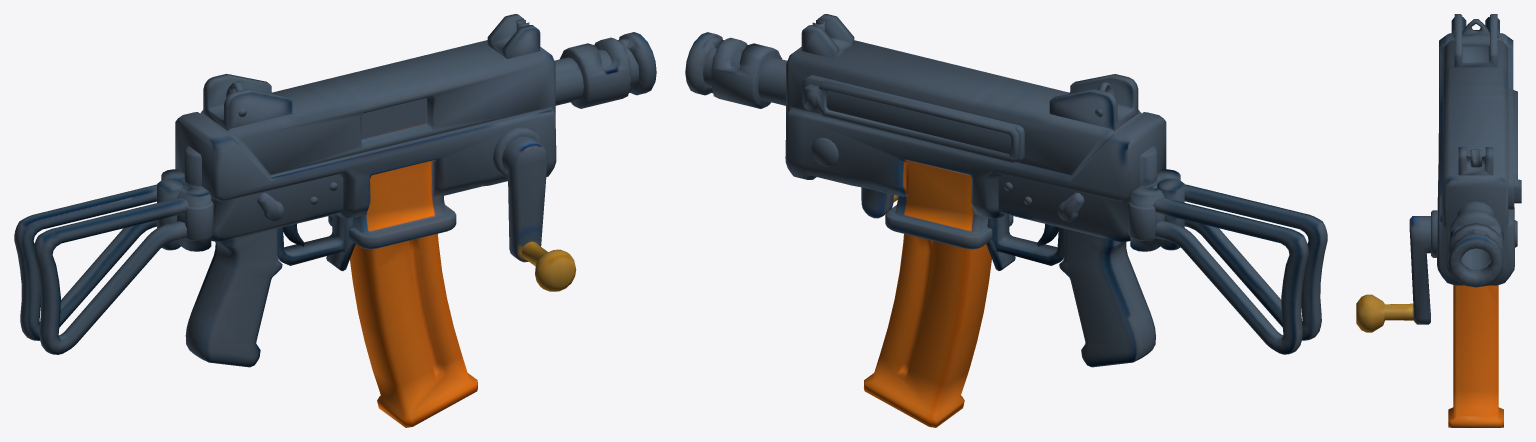
Rendered from wpn_rafale.glb.
The picture shows the model from 3 angles, left to right: view 1: azimuth 30°, elevation 25°; view 2: azimuth 150°, elevation 25°; view 3: azimuth 270°, elevation 25°; orthographic projection. The views are drawn at different scales.
Visible parts, largest first — view 1: wpn_rafale; view 2: wpn_rafale; view 3: wpn_rafale.
Boxes of the visible parts, bbox=[...] form: wpn_rafale: bbox=[14, 14, 656, 427]; wpn_rafale: bbox=[685, 14, 1327, 427]; wpn_rafale: bbox=[1356, 14, 1521, 427].
Size of the model in its own units: 0.9995 by 0.5776 by 0.2622.
1 material, 1 textured.
